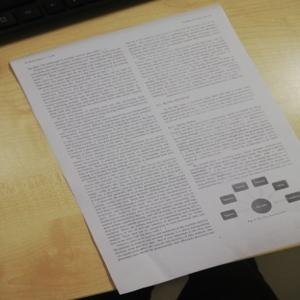diagram: (222, 172, 300, 220)
text: (56, 91, 213, 265), (125, 18, 245, 98), (23, 48, 141, 116), (165, 104, 278, 162)
